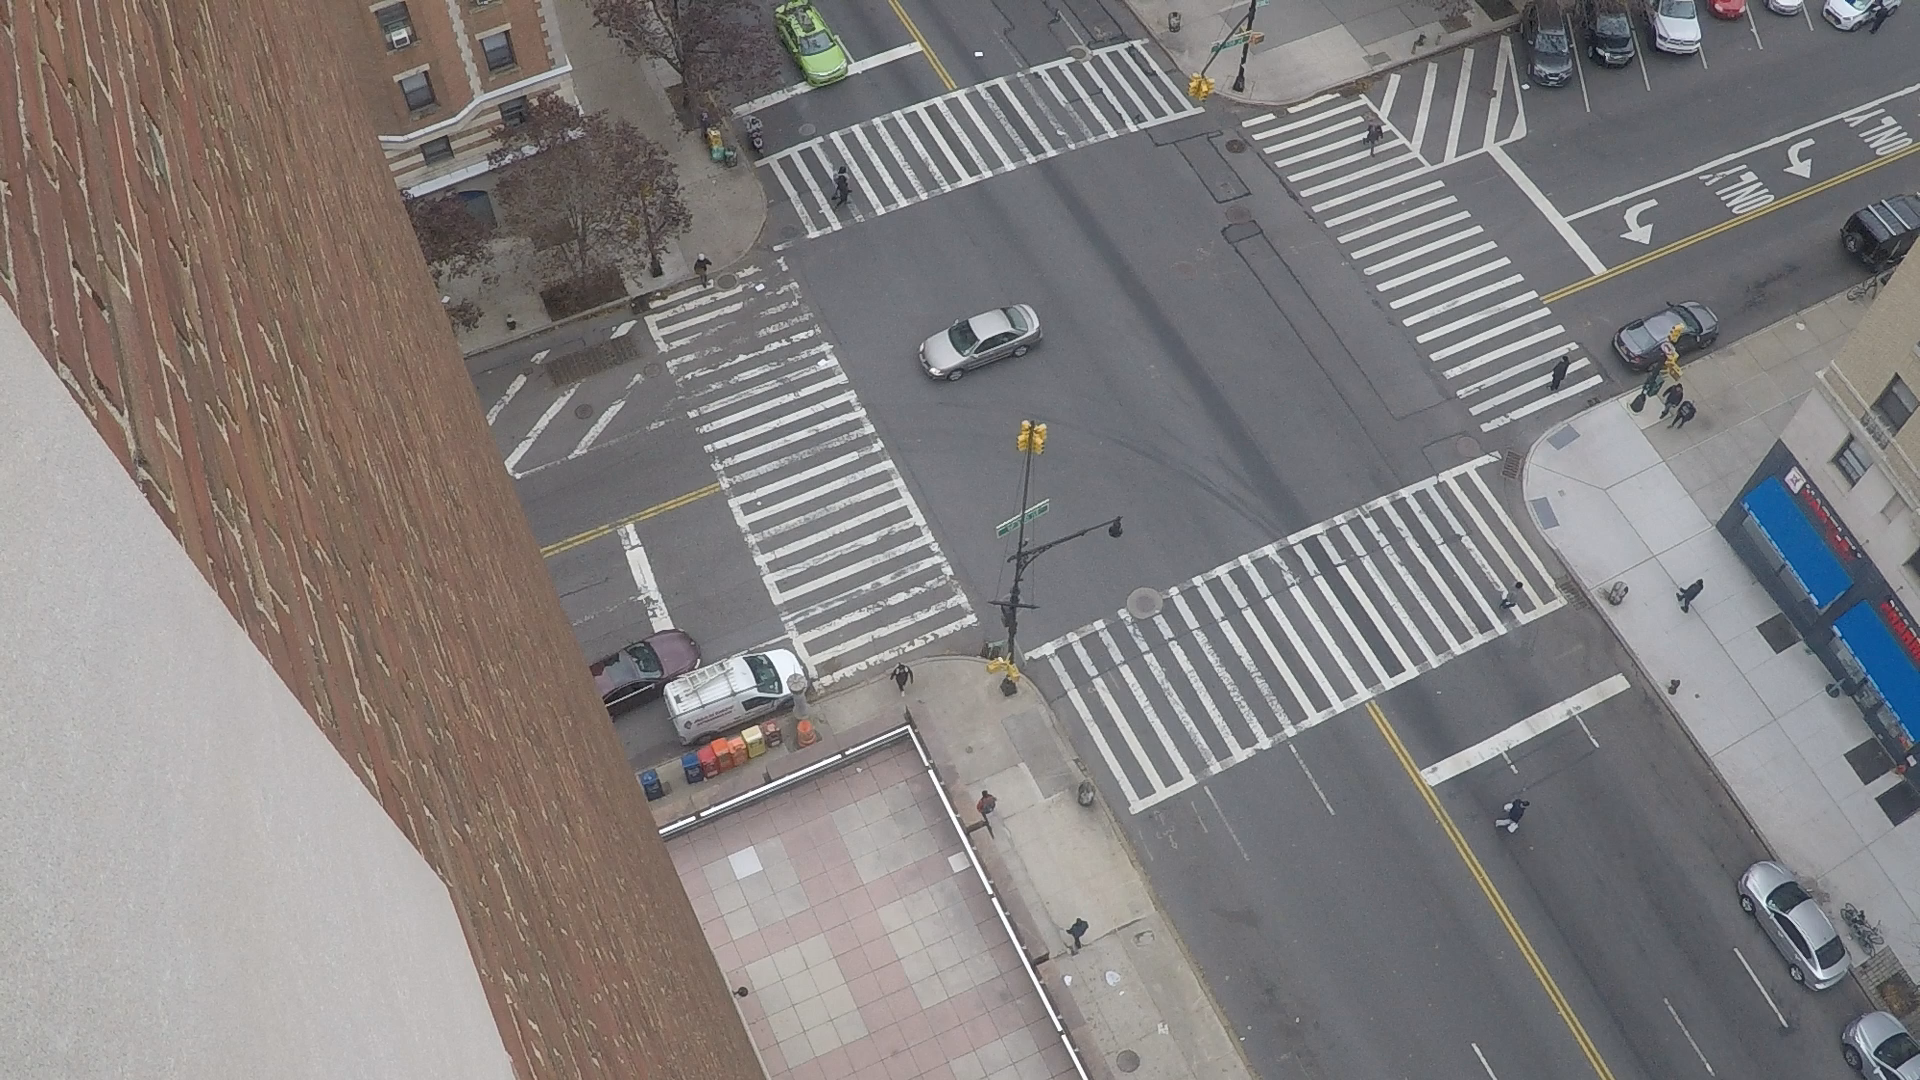Car: (816, 3, 847, 61), (1642, 0, 1647, 12), (795, 654, 799, 662), (1692, 300, 1701, 303), (1763, 0, 1764, 3)
Pedestrian: (909, 674, 912, 685), (757, 119, 762, 123), (1380, 137, 1383, 140), (707, 264, 711, 265)
